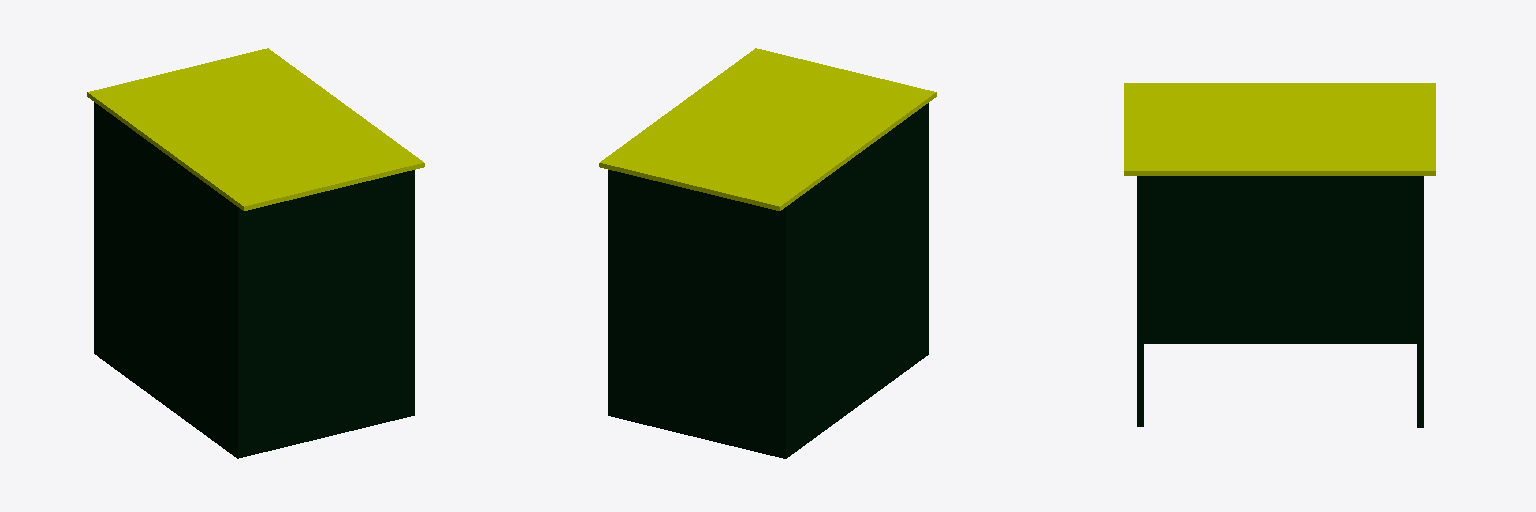
The model's file is table.obj.
The picture shows the model from 3 angles: view 1: azimuth 30°, elevation 25°; view 2: azimuth 150°, elevation 25°; view 3: azimuth 270°, elevation 25°; orthographic projection.
Visible parts, largest first — view 1: Cube; view 2: Cube; view 3: Cube.
Boxes of the visible parts, x1,y1,x2,y2 form: Cube: [87, 48, 424, 458]; Cube: [599, 48, 936, 458]; Cube: [1124, 83, 1435, 427].
Size of the model in its own units: 1.2 by 1.63 by 1.8.